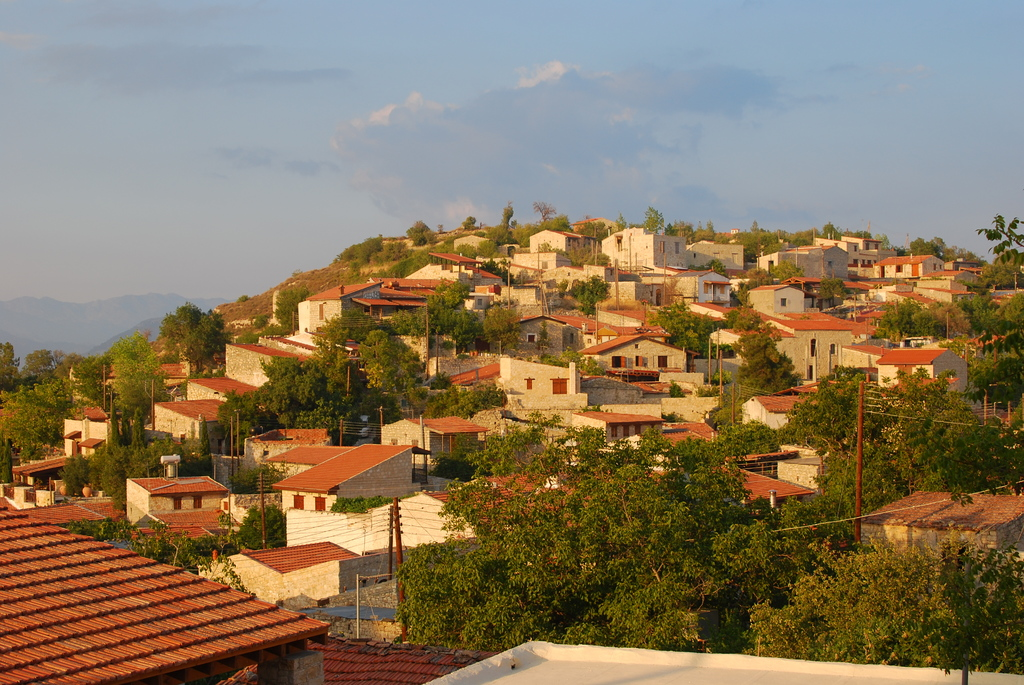Tree: (398, 420, 792, 622), (199, 273, 510, 447), (744, 538, 1023, 668), (0, 328, 171, 499), (793, 368, 984, 505), (67, 514, 258, 596), (952, 211, 1023, 392), (158, 296, 230, 373), (730, 333, 802, 393), (661, 296, 737, 352), (234, 499, 292, 551), (795, 218, 889, 243), (732, 217, 785, 258), (333, 230, 382, 268), (572, 220, 611, 264), (573, 273, 611, 318), (331, 493, 394, 517), (908, 236, 972, 258), (674, 218, 715, 246), (487, 200, 512, 238), (531, 196, 561, 225), (403, 218, 432, 246), (639, 203, 664, 232)
